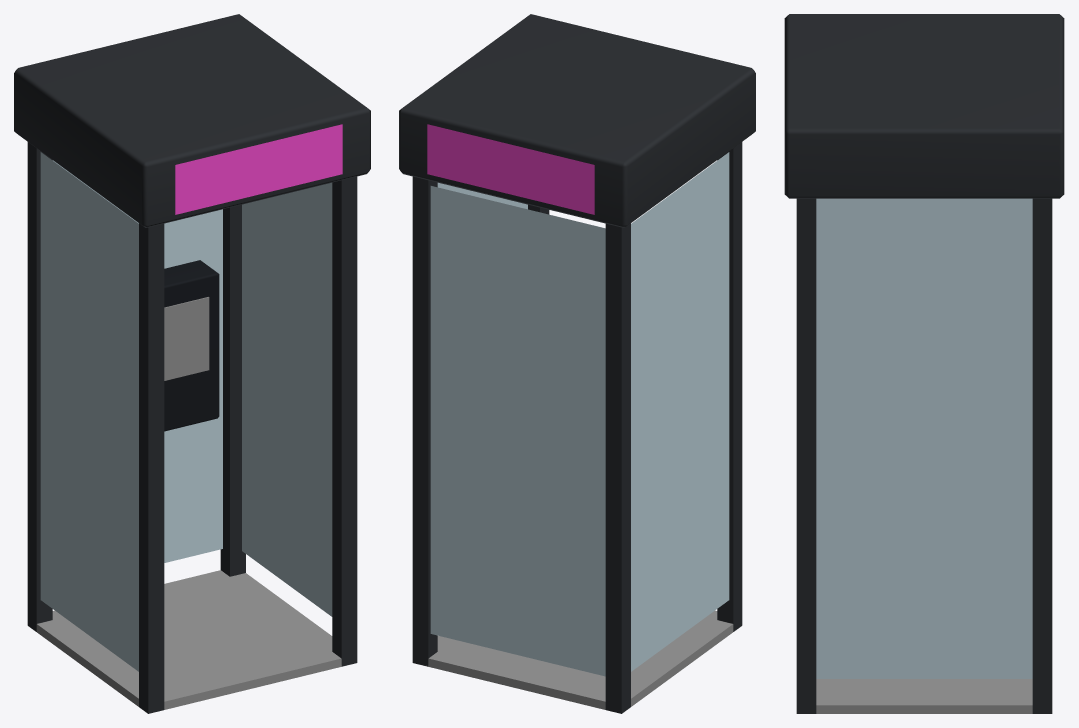
Rendered from St_DataBooth.fbx.
The picture shows the model from 3 angles, left to right: view 1: azimuth 30°, elevation 25°; view 2: azimuth 150°, elevation 25°; view 3: azimuth 270°, elevation 25°; orthographic projection. The views are drawn at different scales.
Parts seen in each view (by area): view 1: St_DataBooth_LOD0; view 2: St_DataBooth_LOD0; view 3: St_DataBooth_LOD0.
Part boxes in pixels (box(x1,y1,x2,y2)): St_DataBooth_LOD0: box(14, 14, 370, 713); St_DataBooth_LOD0: box(399, 14, 755, 713); St_DataBooth_LOD0: box(784, 14, 1064, 713).
Size of what is drawn, in the model's own units: 1.15 by 2.67 by 1.15.
